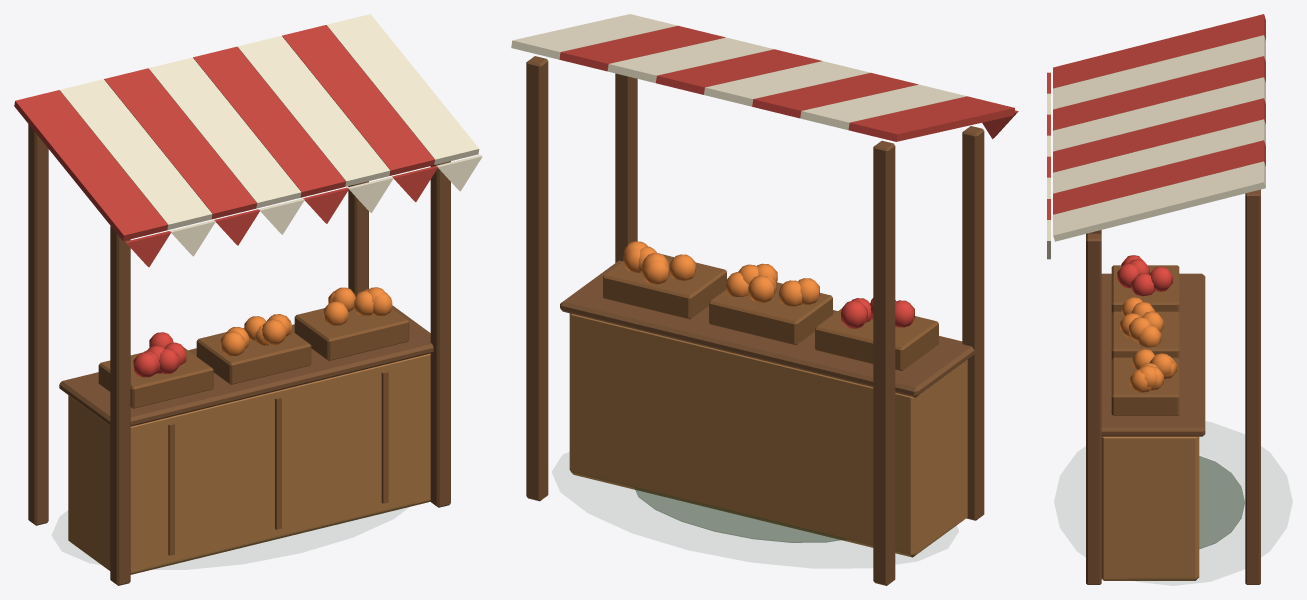
File: stall.glb
3 renders of one model, left to right at view 1: azimuth 30°, elevation 25°; view 2: azimuth 150°, elevation 25°; view 3: azimuth 270°, elevation 25°, orthographic. The views are drawn at different scales.
Visible parts, largest first — view 1: stall; view 2: stall; view 3: stall.
Boxes of the visible parts, bbox=[...] form: stall: bbox=[14, 14, 482, 585]; stall: bbox=[511, 14, 1018, 585]; stall: bbox=[1047, 14, 1265, 584].
Size of the model in its own units: 2 by 2.27 by 1.24.
